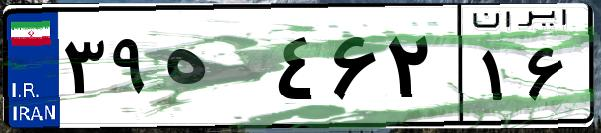1: (475, 38, 525, 113)
2: (385, 28, 445, 110)
3: (57, 26, 110, 100)
4: (270, 28, 330, 110)
6: (330, 28, 385, 110), (525, 38, 570, 115)
9: (110, 28, 158, 98)
ه: (158, 20, 270, 120)
